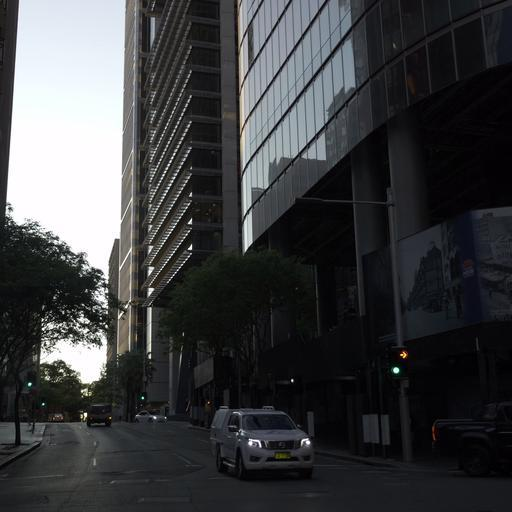Street light: (294, 192, 412, 462), (388, 345, 409, 378), (26, 380, 32, 387)
